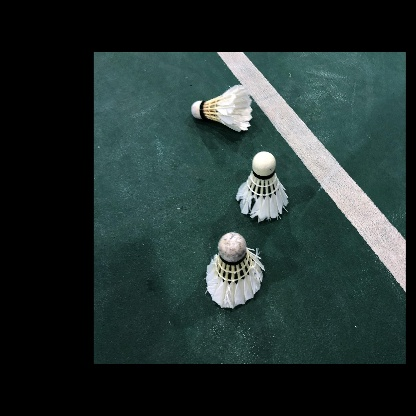ball_single: (206, 232, 265, 308), (235, 151, 288, 222), (191, 84, 252, 132)
